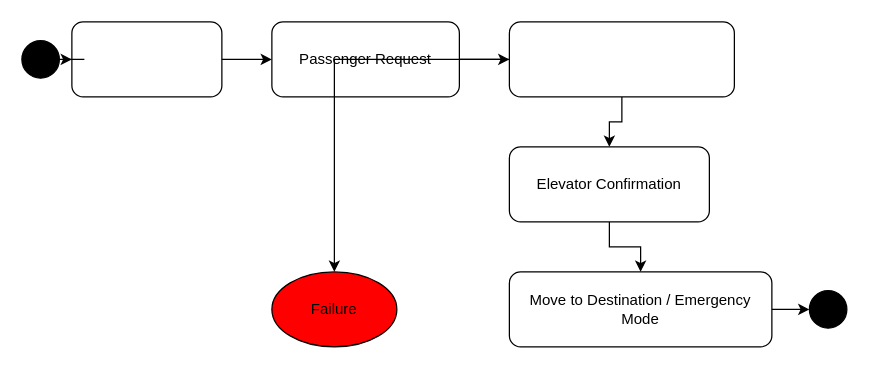
The diagram is 869 pixels wide and 369 high, and some of its shapes have lost their labels. Here are the shapes that lost their labels. From the top down, the box of each, then its label:
(71, 21, 222, 97): Idle
(508, 21, 734, 97): Select Destination / Emergency
